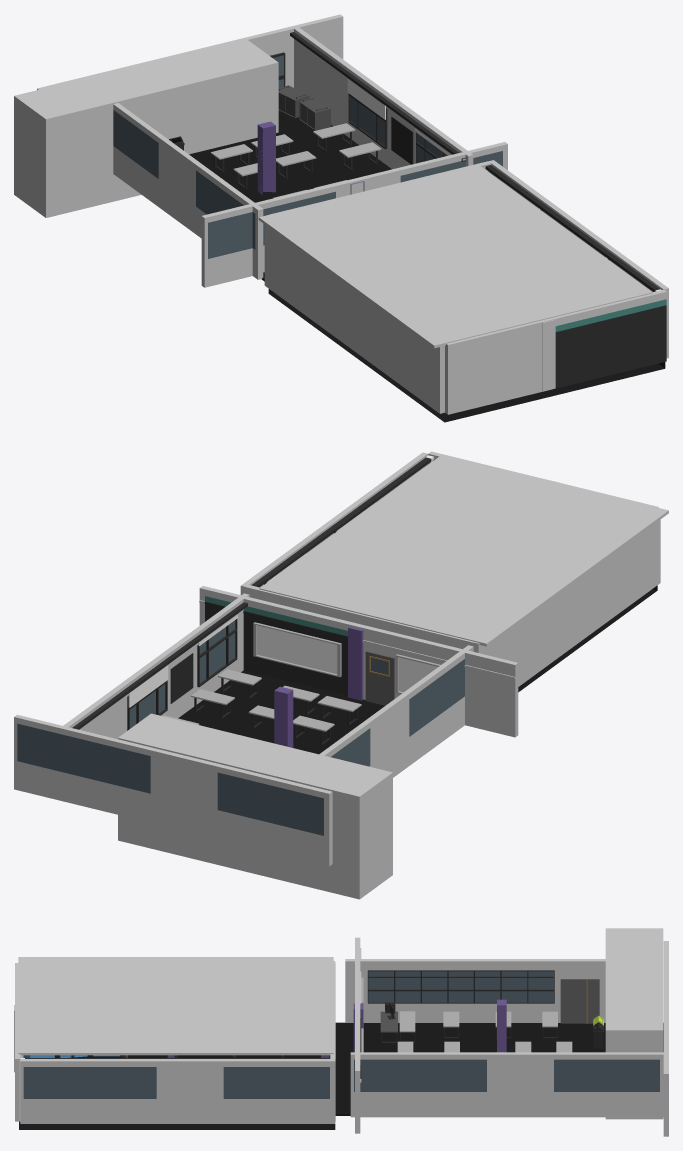
File: l2onearmed (1).fbx
3 renders of one model, top to bottom at view 1: azimuth 30°, elevation 25°; view 2: azimuth 150°, elevation 25°; view 3: azimuth 270°, elevation 25°, orthographic. The views are drawn at different scales.
Parts seen in each view (by area): view 1: techo, estructura.140, Cube.001, pared 2.002, pared 2.005, pared 2.003, Cube, pared 2.004, ventanas.001, pared 4.003, pared 3.003, carrito croto 2.001 (+2 smaller); view 2: techo, pared 2.004, Cube.001, estructura.140, pared 2.005, pared 2.002, pared 2.003, Cube, estructura.002, ventanas.001, puertas.001, pared 3.003 (+4 smaller); view 3: techo, estructura.140, pared 2.003, pared 2.002, Cube.001, Cube, puertas.002, pared 2.005, pared 2.004, ventanas.002, ventanas.004, pared 4.003 (+4 smaller).
Boxes of the visible parts, left/top/right/bottom form: techo: left=258, top=164, right=652, bottom=348; estructura.140: left=264, top=160, right=668, bottom=422; Cube.001: left=14, top=39, right=278, bottom=217; pared 2.002: left=113, top=103, right=263, bottom=279; pared 2.005: left=201, top=142, right=507, bottom=287; pared 2.003: left=293, top=26, right=473, bottom=169; Cube: left=189, top=111, right=391, bottom=281; pared 2.004: left=37, top=14, right=343, bottom=89; ventanas.001: left=348, top=93, right=445, bottom=164; pared 4.003: left=257, top=121, right=275, bottom=194; pared 3.003: left=290, top=32, right=465, bottom=161; carrito croto 2.001: left=299, top=97, right=330, bottom=130; techo: left=259, top=455, right=668, bottom=646; pared 2.004: left=14, top=714, right=332, bottom=866; Cube.001: left=118, top=713, right=392, bottom=899; estructura.140: left=240, top=451, right=660, bottom=692; pared 2.005: left=199, top=586, right=518, bottom=737; pared 2.002: left=319, top=645, right=473, bottom=777; pared 2.003: left=63, top=593, right=249, bottom=739; Cube: left=178, top=670, right=384, bottom=754; estructura.002: left=253, top=622, right=341, bottom=677; ventanas.001: left=127, top=619, right=237, bottom=730; puertas.001: left=365, top=651, right=394, bottom=705; pared 3.003: left=72, top=602, right=247, bottom=729; techo: left=18, top=957, right=333, bottom=1057; estructura.140: left=14, top=961, right=335, bottom=1129; pared 2.003: left=350, top=1052, right=665, bottom=1117; pared 2.002: left=345, top=959, right=605, bottom=1022; Cube.001: left=605, top=928, right=663, bottom=1119; Cube: left=335, top=1022, right=663, bottom=1115; puertas.002: left=560, top=978, right=599, bottom=1023; pared 2.005: left=355, top=937, right=361, bottom=1133; pared 2.004: left=663, top=941, right=668, bottom=1136; ventanas.002: left=368, top=970, right=474, bottom=1003; ventanas.004: left=447, top=970, right=554, bottom=1003; pared 4.003: left=497, top=999, right=506, bottom=1052.
Bounding box in the file's own units: 1362 × 390 × 2609.
